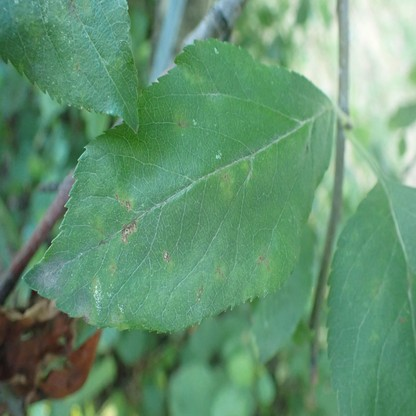powdery_mildew: (34, 261, 67, 292)
scab: (242, 251, 272, 299), (61, 0, 92, 19), (90, 213, 106, 248), (219, 169, 236, 198), (113, 188, 135, 210), (174, 109, 191, 134), (121, 219, 138, 244), (111, 310, 129, 330), (373, 273, 388, 297), (213, 260, 228, 280), (75, 308, 96, 321), (182, 71, 204, 83), (163, 248, 173, 271), (195, 279, 204, 303), (107, 258, 117, 277), (242, 157, 252, 174), (367, 329, 378, 343)
